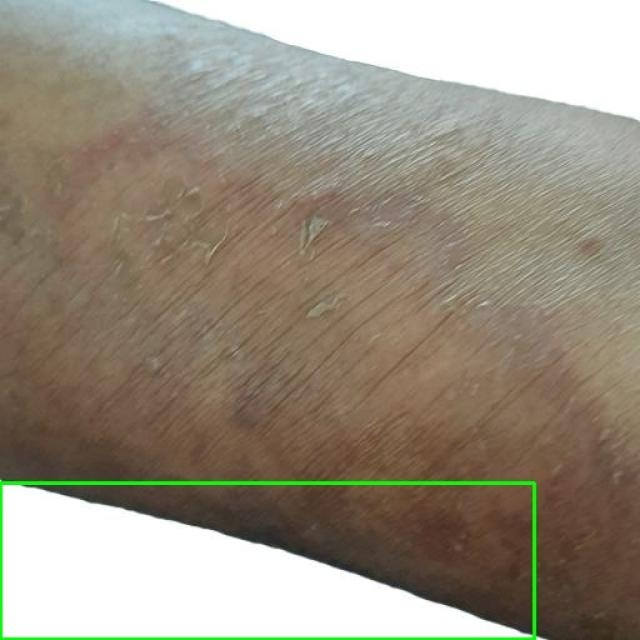Tinea Corporis: (0, 482, 535, 639)
